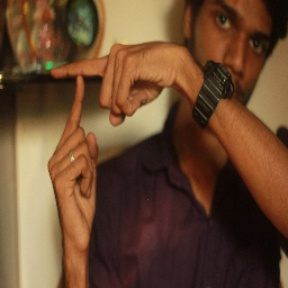T: (36, 43, 126, 165)
